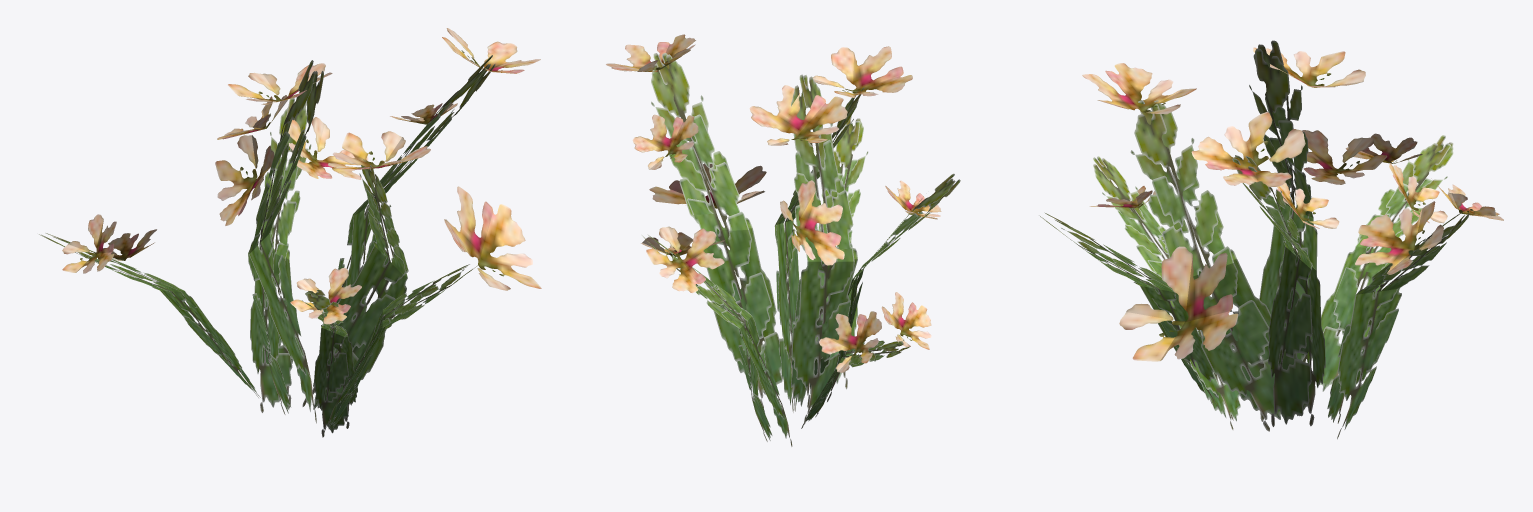
Rendered from Flower_009.fbx.
3 renders of one model, left to right at view 1: azimuth 30°, elevation 25°; view 2: azimuth 150°, elevation 25°; view 3: azimuth 270°, elevation 25°, orthographic. The views are drawn at different scales.
Visible parts, largest first — view 1: FlowerPatch_009; view 2: FlowerPatch_009; view 3: FlowerPatch_009.
Boxes of the visible parts, x1,y1,x2,y2 form: FlowerPatch_009: (39, 28, 541, 437); FlowerPatch_009: (606, 34, 960, 446); FlowerPatch_009: (1039, 40, 1503, 439).
Bounding box in the file's own units: 72.09 × 71.45 × 67.44.
